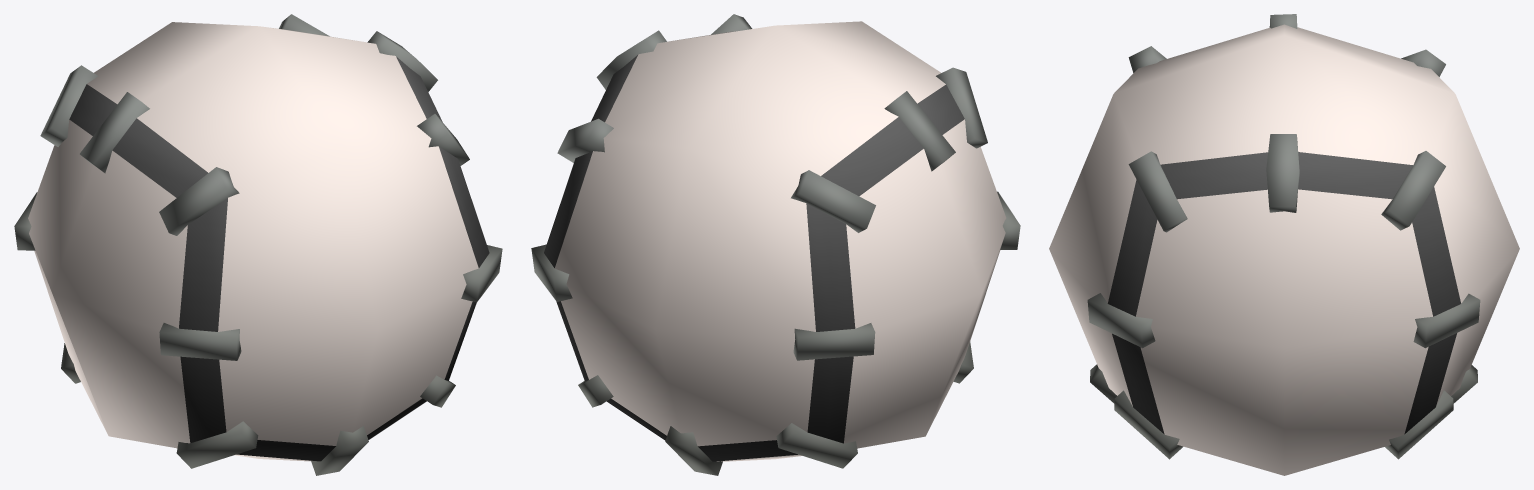
File: baseball.fbx
3 renders of one model, left to right at view 1: azimuth 30°, elevation 25°; view 2: azimuth 150°, elevation 25°; view 3: azimuth 270°, elevation 25°, orthographic.
Parts seen in each view (by area): view 1: baseball-ball; view 2: baseball-ball; view 3: baseball-ball.
Part boxes in pixels (box(x1,y1,x2,y2)): baseball-ball: box(14, 14, 502, 475); baseball-ball: box(531, 14, 1020, 475); baseball-ball: box(1049, 14, 1519, 475).
Bounding box in the file's own units: 0.2851 × 0.2851 × 0.2851.
